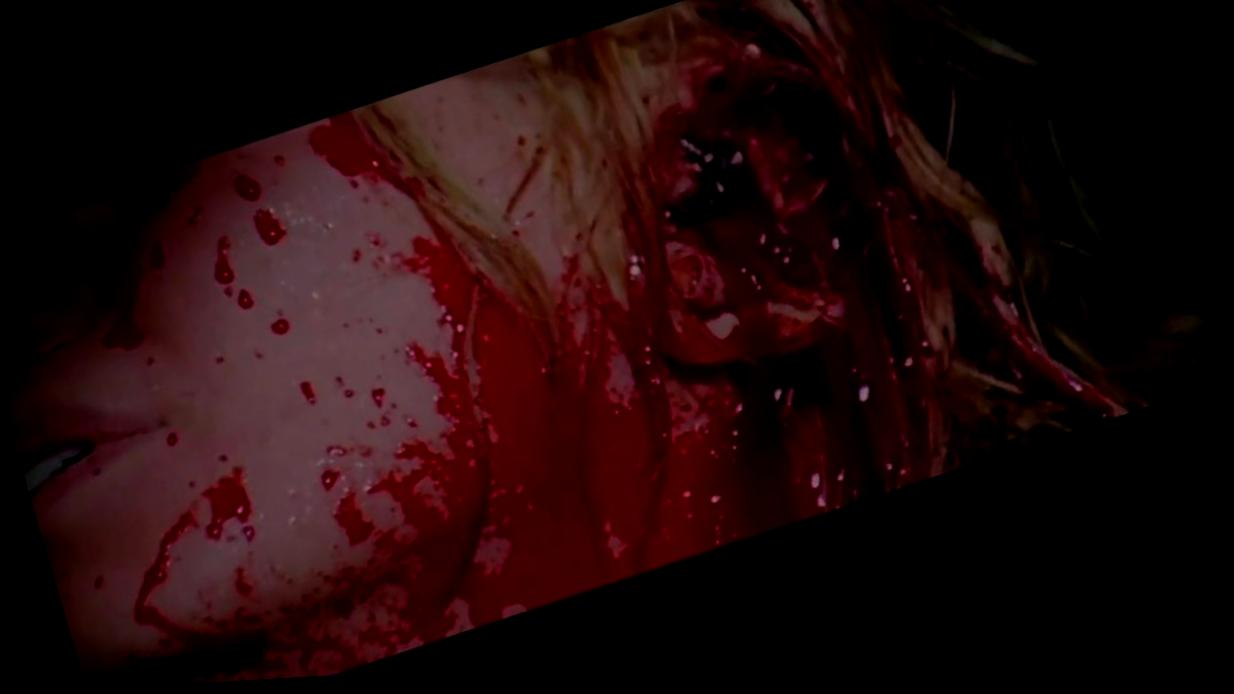Fire: (29, 63, 1116, 686)
